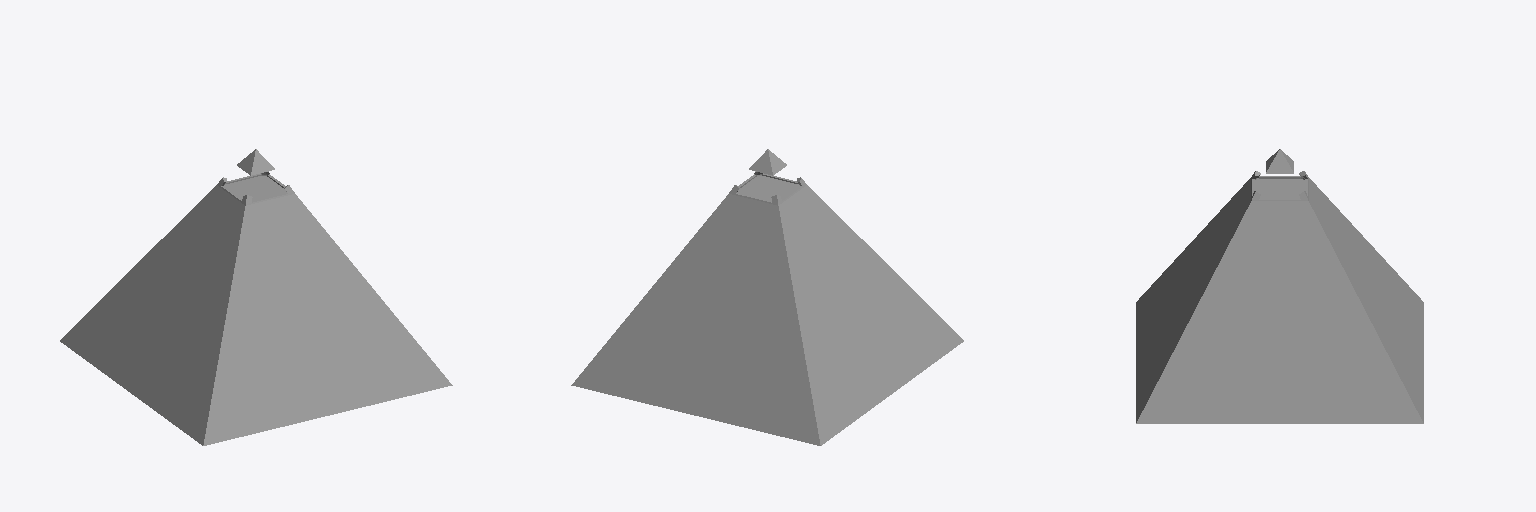
The model's file is piramide.obj.
3 views of the same model, side by side, from view 1: azimuth 30°, elevation 25°; view 2: azimuth 150°, elevation 25°; view 3: azimuth 270°, elevation 25° (orthographic).
Parts seen in each view (by area): view 1: Plane, Cube_Cube.001; view 2: Plane, Cube_Cube.001; view 3: Plane, Cube_Cube.001.
Boxes of the visible parts, <box> form: Plane: <box>60,171,452,445</box>; Cube_Cube.001: <box>237,149,274,175</box>; Plane: <box>571,171,963,445</box>; Cube_Cube.001: <box>749,149,786,175</box>; Plane: <box>1136,171,1423,423</box>; Cube_Cube.001: <box>1266,149,1293,173</box>.
Bounding box in the file's own units: 150 × 123 × 150.